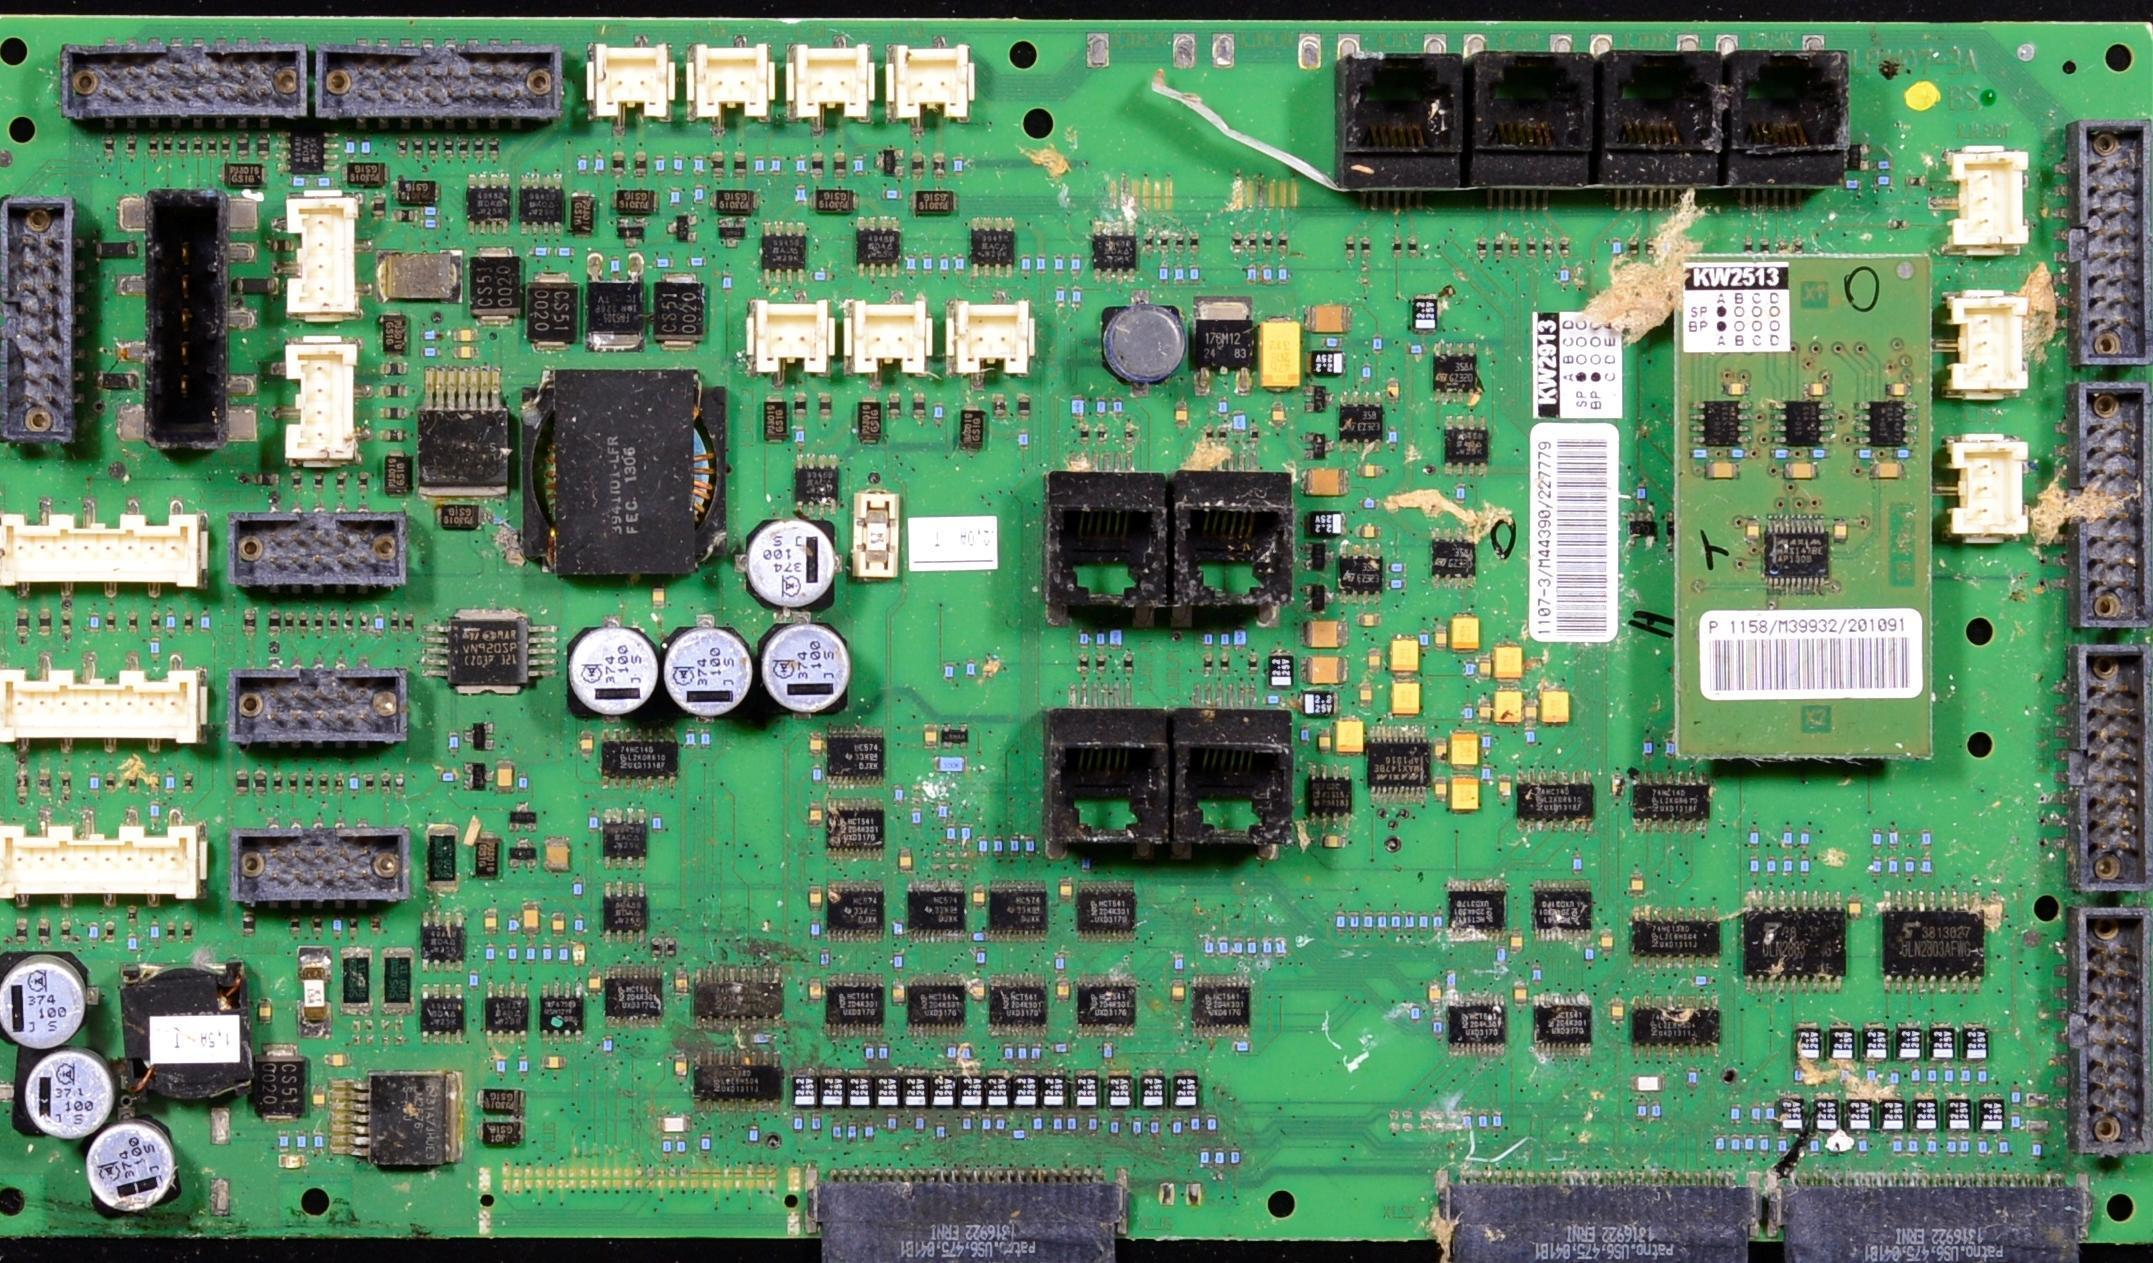Capacitor: (1332, 717, 1369, 761), (1305, 301, 1356, 333), (1307, 657, 1355, 690), (1306, 464, 1350, 498), (1451, 611, 1482, 656), (1447, 773, 1485, 809), (1491, 645, 1528, 680), (1539, 689, 1573, 726), (1451, 732, 1481, 773), (1496, 685, 1524, 727), (1699, 457, 1745, 482), (1393, 678, 1425, 716), (1309, 619, 1352, 647), (533, 1048, 571, 1078), (1390, 637, 1422, 672), (1782, 460, 1818, 484), (544, 837, 571, 867), (491, 764, 515, 797), (448, 326, 486, 347), (1868, 460, 1907, 480), (653, 1115, 695, 1132), (671, 1054, 693, 1084), (257, 993, 277, 1026), (1320, 832, 1350, 852), (1727, 378, 1750, 404), (569, 938, 589, 967), (1632, 1075, 1662, 1094), (522, 902, 541, 932), (1352, 524, 1386, 541), (277, 1155, 304, 1176), (450, 342, 480, 359), (1629, 872, 1647, 902), (1433, 777, 1452, 805), (586, 967, 605, 994), (1433, 625, 1449, 654), (1317, 726, 1334, 755), (970, 977, 986, 1006), (1057, 878, 1075, 904), (1432, 738, 1448, 765), (1501, 770, 1514, 803), (966, 883, 988, 904), (922, 728, 940, 752), (1170, 977, 1188, 1002), (1476, 699, 1493, 725), (1600, 929, 1617, 955), (807, 976, 824, 1002), (312, 1086, 325, 1120), (1174, 401, 1189, 428), (1847, 895, 1860, 925), (1508, 932, 1526, 955), (1888, 380, 1910, 399), (1523, 702, 1539, 724), (482, 909, 499, 932), (1513, 982, 1529, 1005), (891, 981, 905, 1008), (1272, 405, 1287, 428), (1369, 650, 1384, 674), (1428, 981, 1443, 1004), (1831, 524, 1851, 543), (1807, 383, 1828, 398), (1057, 980, 1072, 1001), (1479, 656, 1492, 681), (1358, 613, 1380, 627), (1743, 524, 1763, 539), (808, 804, 821, 826), (331, 1055, 348, 1072), (809, 739, 824, 756), (808, 885, 821, 905), (1357, 681, 1370, 702), (902, 847, 911, 865)
IC: (415, 363, 512, 491), (333, 1077, 461, 1172), (1738, 889, 1844, 993), (1880, 890, 1984, 993), (1630, 994, 1722, 1061), (1363, 721, 1432, 806), (691, 968, 787, 1029), (689, 1050, 787, 1105), (1630, 909, 1722, 968), (1511, 765, 1594, 830), (1628, 773, 1713, 836), (985, 973, 1058, 1039), (1190, 975, 1255, 1042), (1762, 524, 1828, 592), (1074, 972, 1139, 1038), (823, 970, 886, 1039), (903, 877, 966, 946), (1075, 877, 1139, 943), (823, 726, 888, 789), (1444, 879, 1509, 943), (906, 972, 965, 1041), (605, 962, 664, 1028), (1443, 994, 1506, 1056), (829, 876, 885, 944), (1531, 879, 1592, 941), (466, 164, 518, 236), (849, 214, 907, 279), (1530, 994, 1590, 1056), (824, 801, 883, 861), (599, 808, 651, 873), (416, 906, 468, 974), (418, 980, 468, 1046), (760, 219, 809, 285), (1442, 414, 1492, 480), (991, 881, 1044, 940), (486, 977, 529, 1045), (1338, 392, 1385, 456), (277, 127, 337, 174), (969, 217, 1017, 277), (1429, 342, 1477, 402), (1856, 401, 1915, 449), (1691, 401, 1753, 448), (521, 171, 567, 235), (1771, 398, 1830, 447), (603, 879, 645, 944), (1095, 221, 1140, 281), (1432, 526, 1475, 588), (544, 983, 587, 1035), (537, 978, 550, 1002)
Resistor: (232, 131, 255, 162), (379, 359, 410, 380), (377, 405, 408, 425), (379, 423, 410, 442), (256, 126, 276, 155), (729, 150, 748, 179), (909, 152, 926, 183), (631, 150, 650, 177), (911, 392, 928, 421), (816, 392, 835, 418), (254, 471, 279, 488), (611, 151, 625, 181), (244, 608, 259, 637), (706, 150, 723, 177), (1015, 392, 1031, 419), (832, 150, 847, 179), (992, 393, 1008, 421), (808, 152, 824, 178), (931, 152, 945, 179), (377, 381, 405, 396), (124, 134, 139, 160), (888, 391, 902, 418), (193, 133, 206, 156), (218, 134, 231, 158), (268, 607, 280, 634), (101, 132, 113, 158), (313, 613, 326, 636), (147, 132, 160, 157), (794, 392, 805, 419), (161, 135, 172, 161), (285, 609, 296, 635), (289, 471, 302, 490), (176, 130, 186, 153), (336, 473, 348, 494), (300, 612, 311, 636), (205, 134, 216, 153), (312, 472, 325, 491), (128, 613, 140, 633), (183, 613, 195, 633), (357, 614, 369, 633), (358, 473, 370, 491), (149, 613, 160, 632), (341, 610, 351, 630), (404, 615, 413, 634), (391, 612, 400, 630), (329, 614, 339, 632)
Transistor: (1195, 316, 1258, 404), (607, 213, 649, 246), (1300, 533, 1330, 575), (715, 215, 750, 250), (460, 761, 497, 792), (1300, 428, 1335, 462), (508, 838, 541, 872), (1302, 580, 1334, 617), (1302, 381, 1332, 418), (465, 718, 498, 752), (665, 213, 699, 245), (872, 147, 904, 181), (506, 801, 539, 834)
